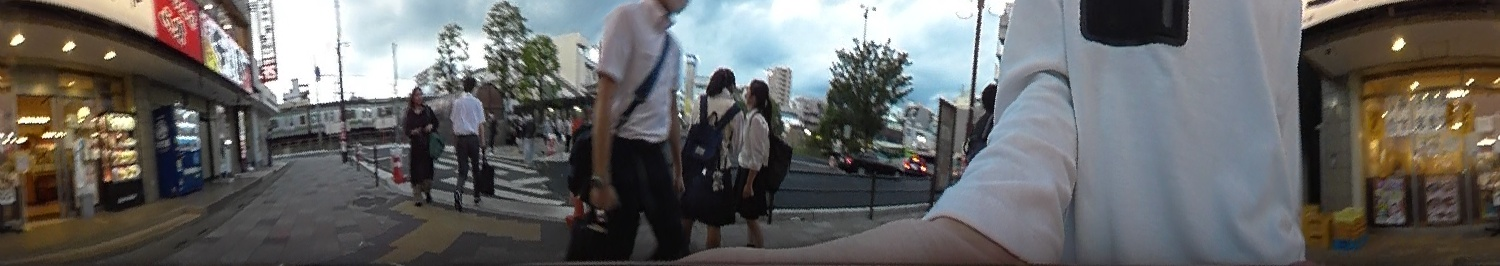difficult_person: (518, 105, 539, 166), (484, 108, 503, 154), (540, 111, 556, 151)
person: (555, 0, 709, 266), (679, 61, 742, 255), (739, 72, 784, 249), (445, 73, 496, 215), (396, 80, 443, 210), (960, 78, 1003, 165)
